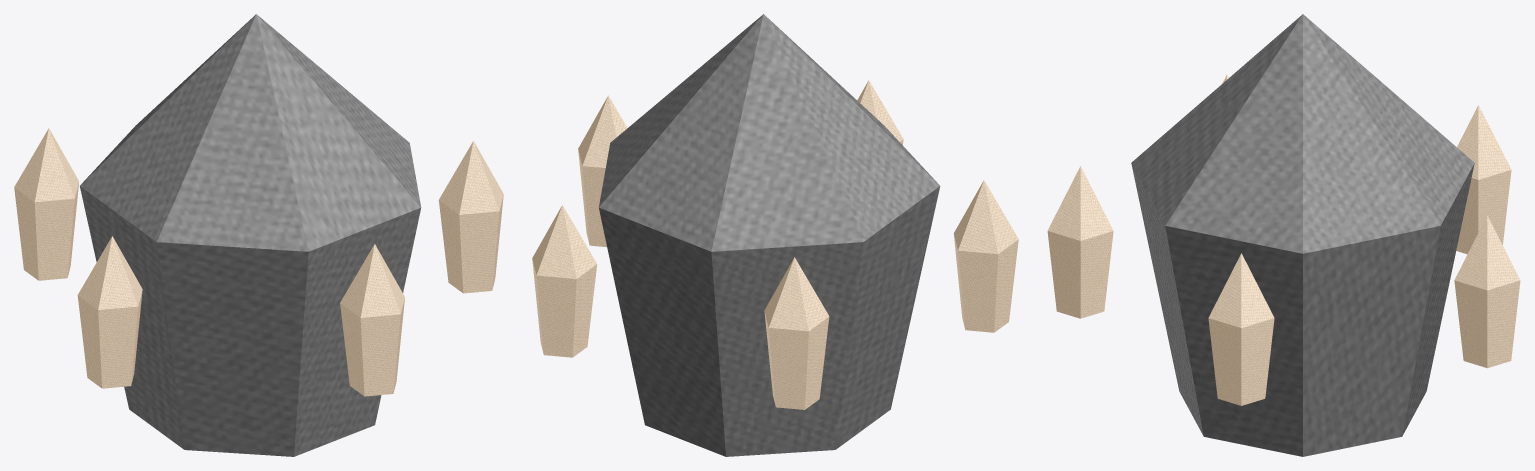
Rendered from deep-fracture-creature-AnnoyanceWisp-earth.glb.
The picture shows the model from 3 angles, left to right: view 1: azimuth 30°, elevation 25°; view 2: azimuth 150°, elevation 25°; view 3: azimuth 270°, elevation 25°; orthographic projection.
Parts seen in each view (by area): view 1: shell, orbit-shard-2, orbit-shard-3, orbit-shard-0, orbit-shard-1; view 2: shell, orbit-shard-3, orbit-shard-2, orbit-shard-4, orbit-shard-0, orbit-shard-1; view 3: shell, orbit-shard-0, orbit-shard-1, orbit-shard-4, orbit-shard-3.
Part boxes in pixels (x1=…): shell: x1=80, y1=14, x2=421, y2=456; orbit-shard-2: x1=77, y1=236, x2=142, y2=388; orbit-shard-3: x1=14, y1=128, x2=79, y2=280; orbit-shard-0: x1=438, y1=141, x2=503, y2=293; orbit-shard-1: x1=340, y1=244, x2=404, y2=396; shell: x1=598, y1=14, x2=940, y2=456; orbit-shard-3: x1=764, y1=257, x2=829, y2=409; orbit-shard-2: x1=953, y1=180, x2=1018, y2=332; orbit-shard-4: x1=532, y1=205, x2=597, y2=357; orbit-shard-0: x1=578, y1=95, x2=627, y2=247; orbit-shard-1: x1=857, y1=80, x2=903, y2=145; shell: x1=1131, y1=14, x2=1474, y2=456; orbit-shard-0: x1=1208, y1=253, x2=1274, y2=405; orbit-shard-1: x1=1047, y1=166, x2=1113, y2=318; orbit-shard-4: x1=1454, y1=215, x2=1520, y2=368; orbit-shard-3: x1=1456, y1=105, x2=1511, y2=254.
Size of the model in its own units: 1.05 by 0.9676 by 1.02.
3 materials, 3 textured.
